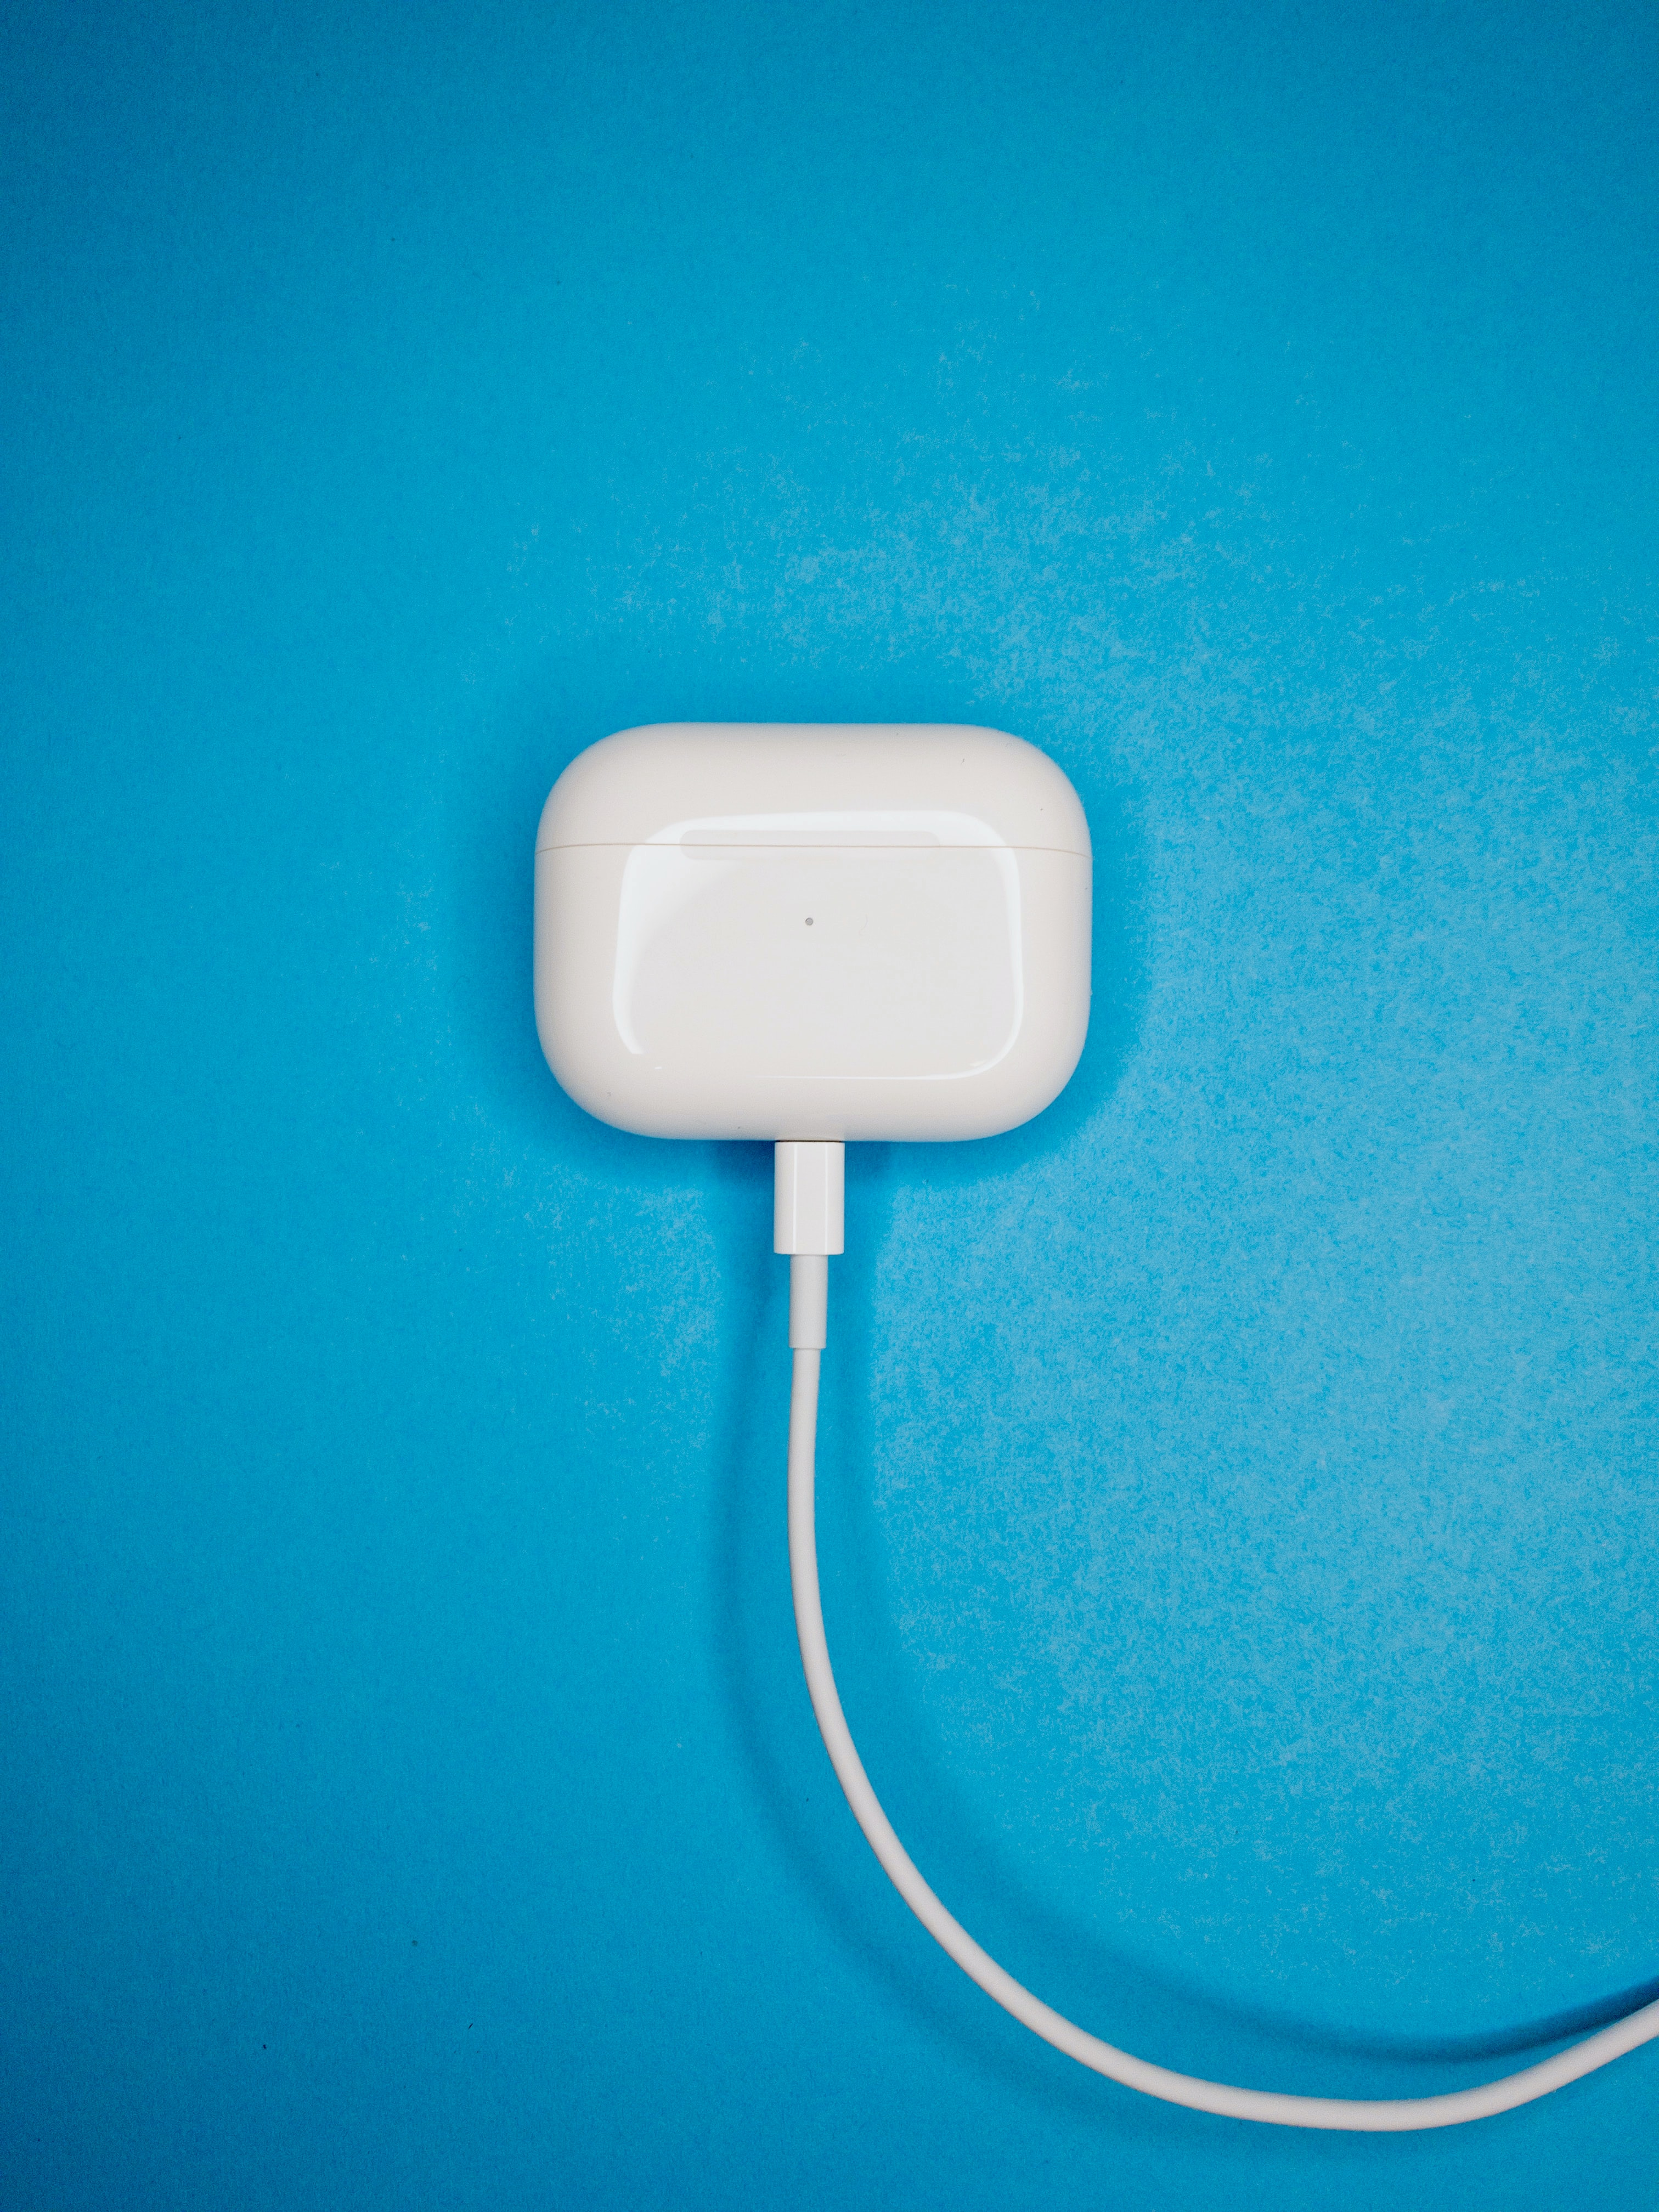airpods: (528, 719, 1100, 1150)
